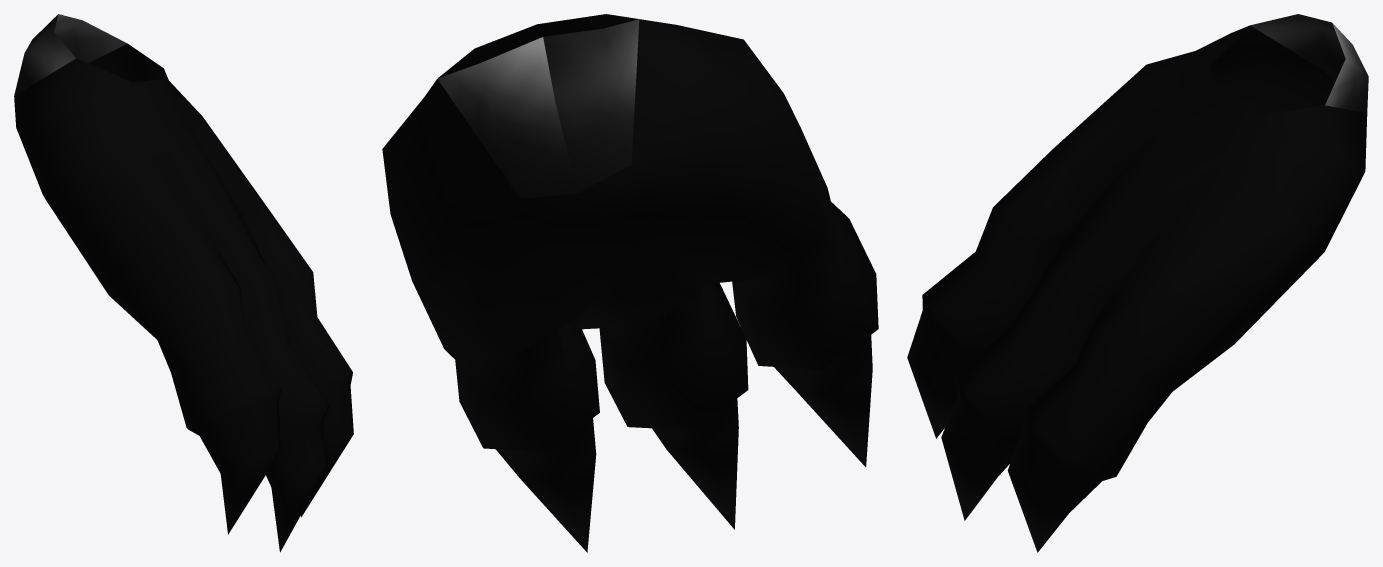
File: 0511_zhuazi05.glb
3 renders of one model, left to right at view 1: azimuth 30°, elevation 25°; view 2: azimuth 150°, elevation 25°; view 3: azimuth 270°, elevation 25°, orthographic. The views are drawn at different scales.
Bounding box in the file's own units: 1.35 × 2.2 × 1.95.
Materials: 1 (1 with a texture image).
